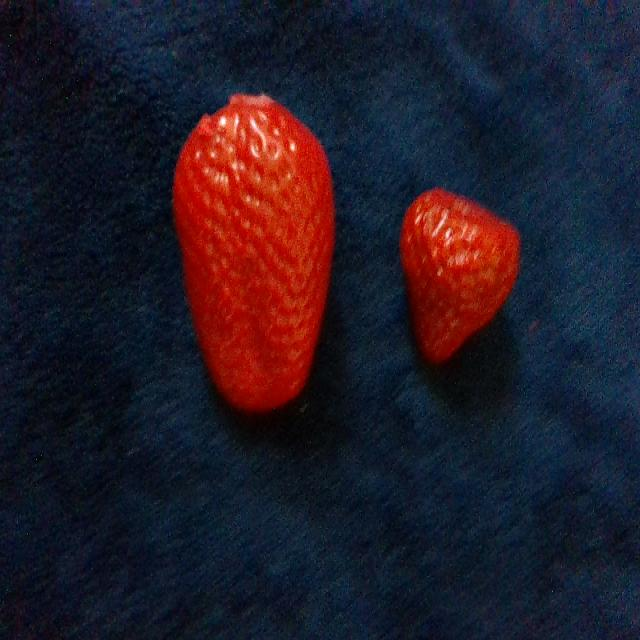chica_roja: (401, 188, 519, 361)
grande_roja: (173, 95, 333, 409)
